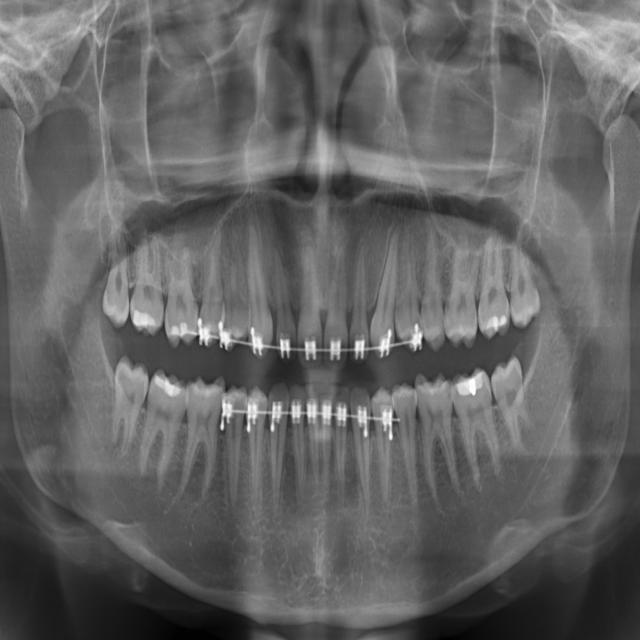AmalgamRestoration: (466, 369, 478, 410)
CompositeResinRestoration: (132, 298, 161, 339), (167, 308, 193, 348), (485, 300, 511, 340), (152, 368, 184, 400), (450, 366, 469, 415), (476, 362, 488, 407), (484, 368, 488, 372)
DentalCaries: (438, 367, 456, 428)
